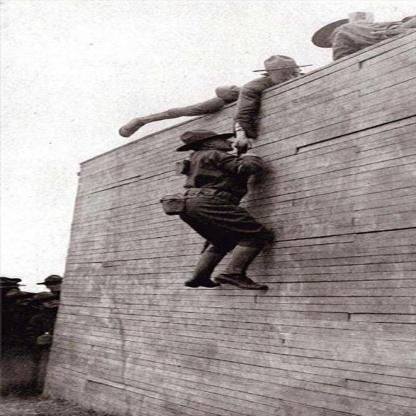face: (270, 67, 301, 87), (210, 136, 235, 152)
